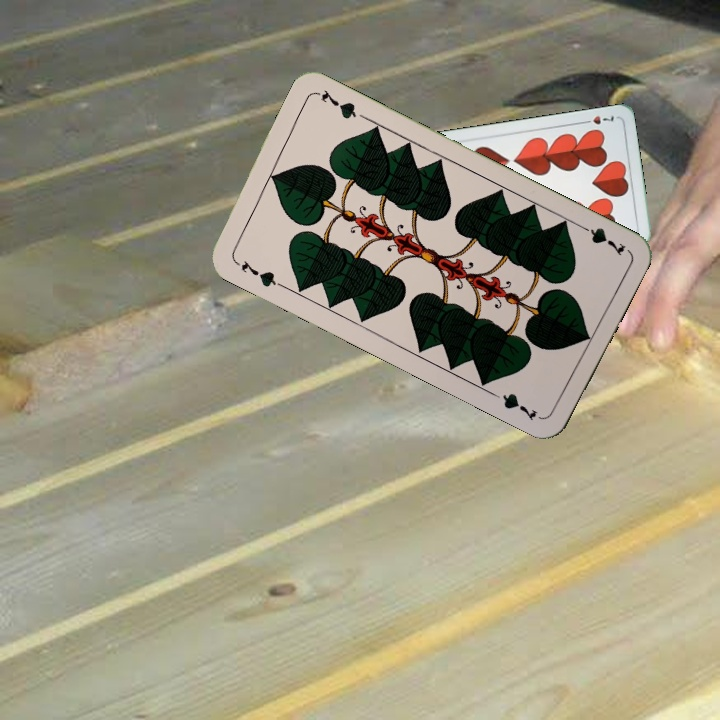G7: (574, 220, 628, 259), (230, 256, 285, 290)
H7: (578, 111, 616, 127)
